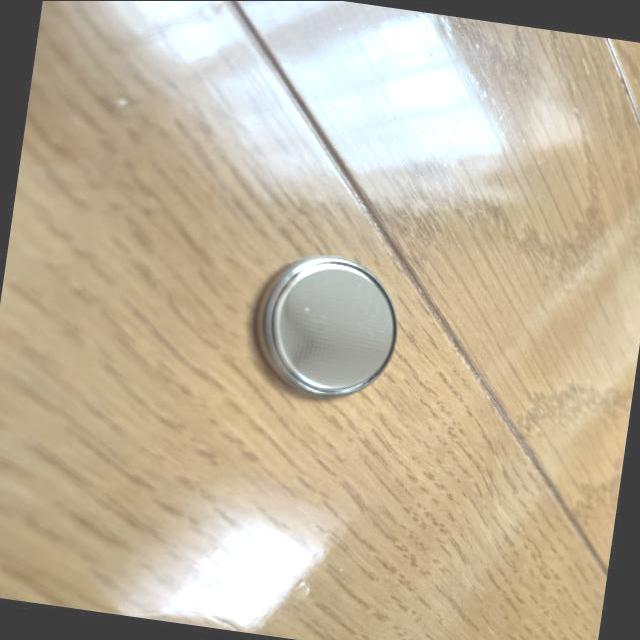COIN: (241, 244, 408, 409)
